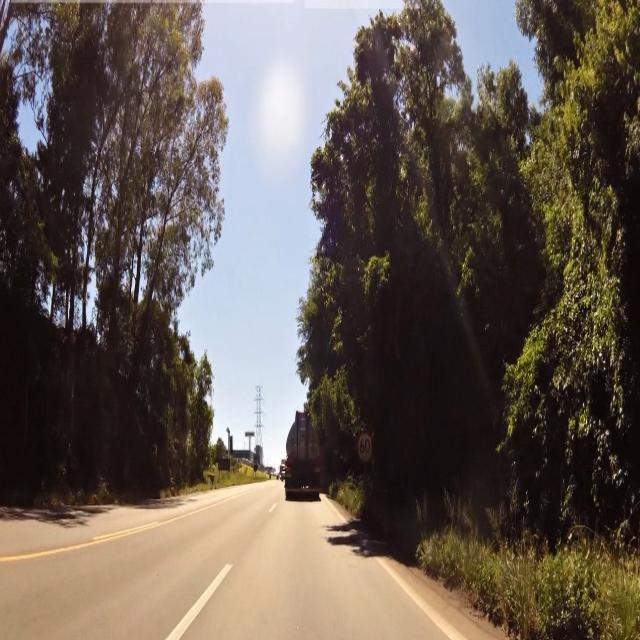R-19: (357, 432, 373, 466)
